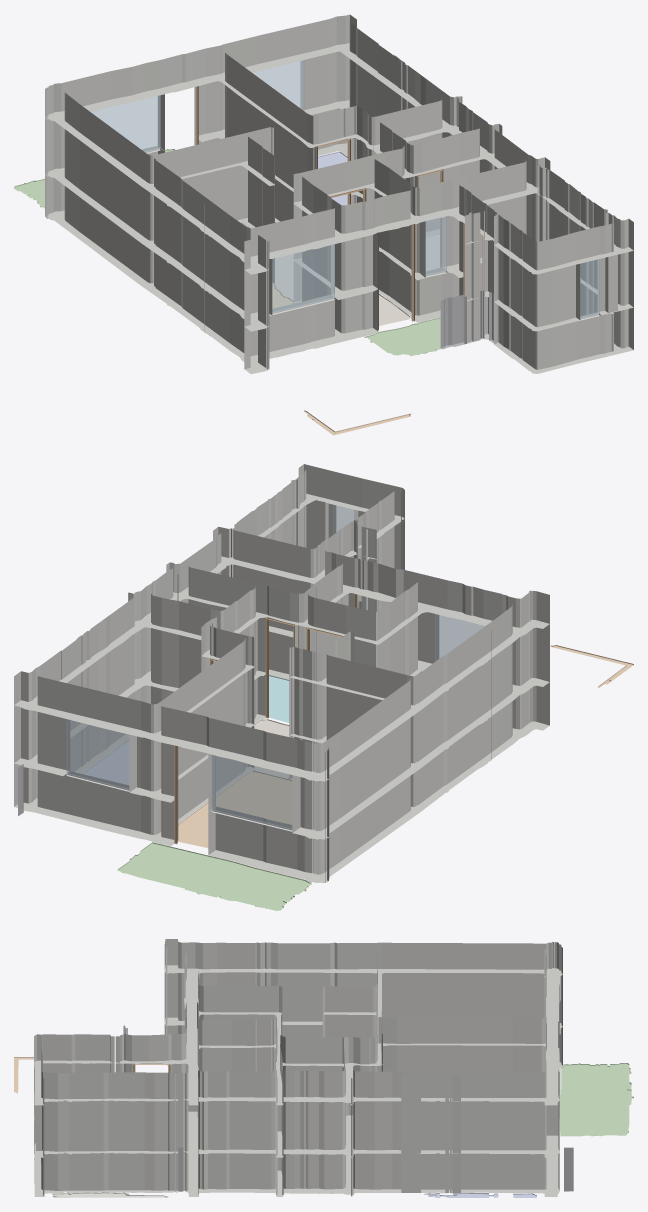
3 renders of one model, top to bottom at view 1: azimuth 30°, elevation 25°; view 2: azimuth 150°, elevation 25°; view 3: azimuth 270°, elevation 25°, orthographic. The views are drawn at different scales.
Parts seen in each view (by area): view 1: walls, window_9, window_7, floor_0_Outdoor, railings, window_8, window_10, window_11, floor_13_Entry; view 2: walls, floor_4_Outdoor, window_7, floor_7_Living_Room, window_8, window_9, floor_10_Bed_Room, floor_11_Bath, floor_13_Entry; view 3: walls, floor_4_Outdoor, railings, floor_15_Undefined.
Part boxes in pixels (bbox=[...]): walls: bbox=[45, 14, 633, 374]; window_9: bbox=[269, 242, 334, 312]; window_7: bbox=[91, 95, 160, 151]; floor_0_Outdoor: bbox=[364, 317, 440, 356]; railings: bbox=[440, 290, 493, 349]; window_8: bbox=[250, 57, 304, 110]; window_10: bbox=[423, 214, 446, 275]; window_11: bbox=[580, 259, 599, 318]; floor_13_Entry: bbox=[275, 254, 293, 300]; walls: bbox=[14, 464, 549, 882]; floor_4_Outdoor: bbox=[117, 842, 311, 910]; window_7: bbox=[211, 755, 292, 829]; floor_7_Living_Room: bbox=[178, 770, 291, 848]; window_8: bbox=[66, 719, 132, 789]; window_9: bbox=[435, 610, 484, 661]; floor_10_Bed_Room: bbox=[83, 740, 128, 784]; floor_11_Bath: bbox=[269, 675, 289, 722]; floor_13_Entry: bbox=[253, 719, 289, 779]; walls: bbox=[34, 939, 562, 1196]; floor_4_Outdoor: bbox=[559, 1063, 633, 1136]; railings: bbox=[178, 1147, 573, 1191]; floor_15_Undefined: bbox=[52, 1192, 168, 1197].
Size of the model in its own units: 6.89 by 2.72 by 12.88.
